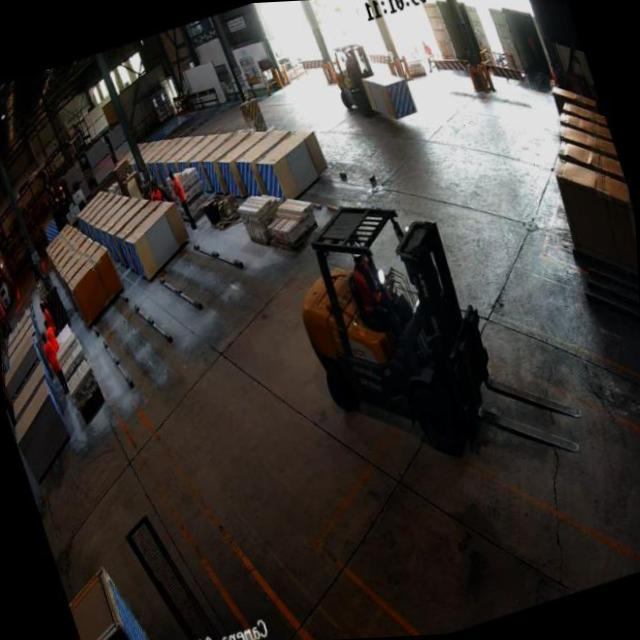driver: (336, 239, 406, 345)
forklift: (263, 162, 523, 496), (322, 42, 382, 128)
person: (166, 165, 198, 233), (39, 330, 68, 396), (38, 298, 56, 332), (42, 318, 59, 352), (0, 260, 11, 309), (147, 181, 162, 201)
